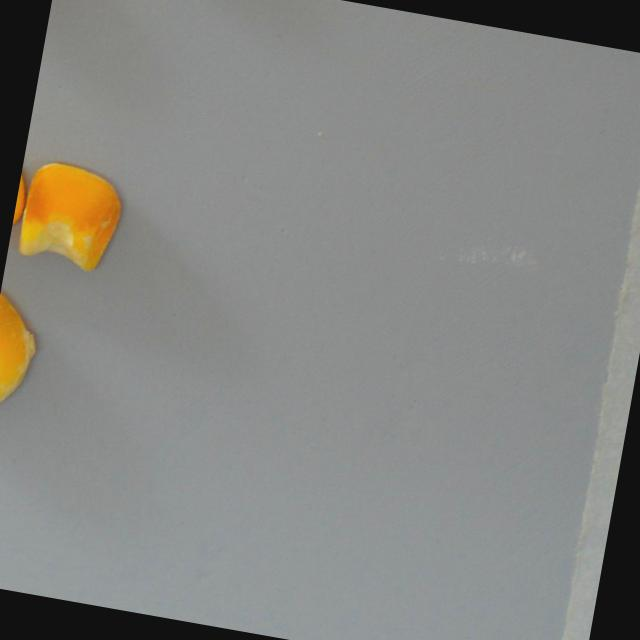pelicula: (13, 157, 127, 274), (0, 285, 45, 424)
